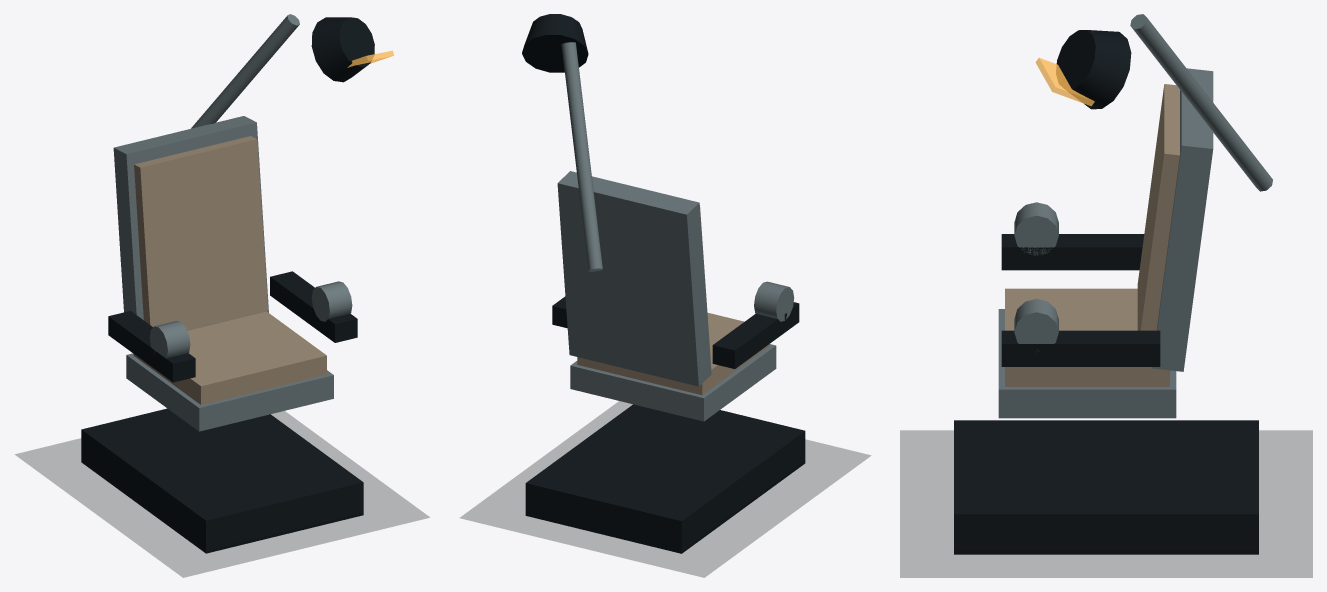
The model's file is hp_room_cyber_interrogation_chair.glb.
3 views of the same model, side by side, from view 1: azimuth 30°, elevation 25°; view 2: azimuth 150°, elevation 25°; view 3: azimuth 270°, elevation 25° (orthographic). The views are drawn at different scales.
Parts seen in each view (by area): view 1: base_sled, back_cushion, contact_shadow, seat_cushion, backrest, seat_pan, lamp_head, arm_left, arm_right, lamp_boom, clamp_right, clamp_left; view 2: base_sled, backrest, contact_shadow, seat_pan, lamp_boom, lamp_head, arm_left, seat_cushion, clamp_left; view 3: base_sled, contact_shadow, backrest, seat_cushion, seat_pan, back_cushion, arm_right, arm_left, lamp_head, lamp_boom, clamp_left, clamp_right (+1 smaller).
Boxes of the visible parts, x1,y1,x2,y2 form: base_sled: [81, 408, 363, 553]; back_cushion: [134, 136, 268, 330]; contact_shadow: [15, 411, 429, 577]; seat_cushion: [133, 311, 326, 404]; backrest: [113, 116, 268, 330]; seat_pan: [126, 353, 333, 431]; lamp_head: [311, 17, 374, 82]; arm_left: [108, 311, 195, 382]; arm_right: [270, 271, 357, 342]; lamp_boom: [191, 14, 299, 128]; clamp_right: [311, 281, 352, 321]; clamp_left: [149, 321, 190, 358]; base_sled: [525, 404, 805, 553]; backrest: [557, 171, 711, 386]; contact_shadow: [460, 401, 870, 577]; seat_pan: [570, 344, 776, 421]; lamp_boom: [561, 42, 602, 271]; lamp_head: [522, 14, 588, 72]; arm_left: [712, 302, 799, 368]; seat_cushion: [577, 313, 768, 394]; clamp_left: [754, 281, 794, 321]; base_sled: [954, 420, 1258, 554]; contact_shadow: [900, 430, 1312, 577]; backrest: [1152, 68, 1213, 371]; seat_cushion: [1005, 288, 1169, 386]; seat_pan: [998, 309, 1176, 418]; back_cushion: [1137, 84, 1179, 330]; arm_right: [1001, 330, 1160, 366]; arm_left: [1001, 234, 1144, 270]; lamp_head: [1056, 30, 1131, 109]; lamp_boom: [1130, 14, 1272, 191]; clamp_left: [1014, 202, 1058, 255]; clamp_right: [1014, 299, 1058, 352].
Size of the model in its own units: 1.21 by 1.89 by 1.3.
